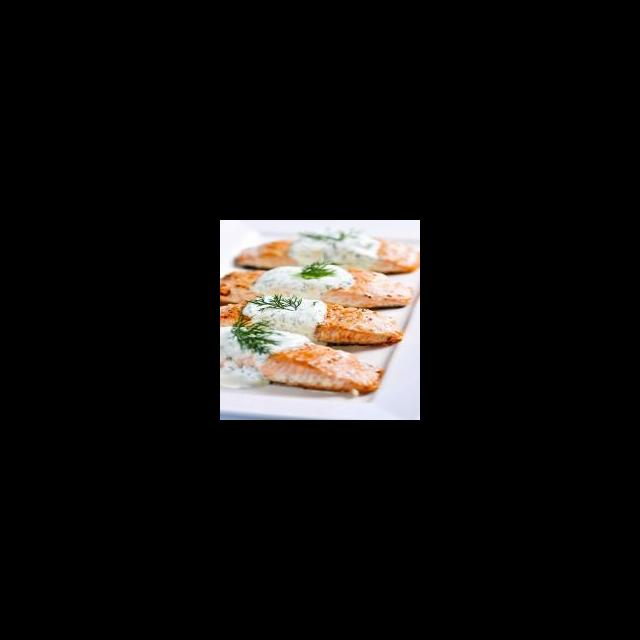ca hoi: (220, 336, 388, 399), (220, 300, 407, 346), (220, 268, 420, 310), (236, 237, 420, 277)
ca hoi sot pho mai kem: (221, 231, 420, 412)
pho mai: (240, 290, 327, 335), (220, 327, 274, 390), (291, 234, 378, 271), (255, 264, 354, 296)
